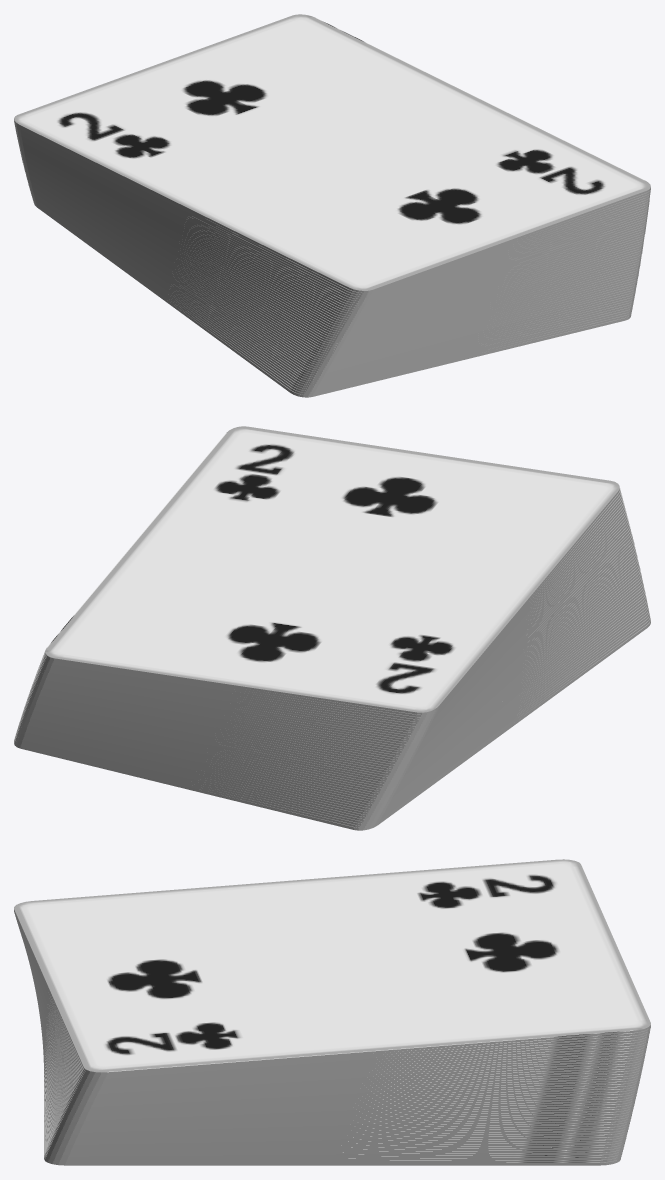
File: Deck.fbx
3 views of the same model, one above another, from view 1: azimuth 30°, elevation 25°; view 2: azimuth 150°, elevation 25°; view 3: azimuth 270°, elevation 25° (orthographic). The views are drawn at different scales.
Parts seen in each view (by area): view 1: Cube; view 2: Cube; view 3: Cube.
Boxes of the visible parts, x1,y1,x2,y2 form: Cube: (14, 14, 650, 397); Cube: (14, 426, 650, 830); Cube: (14, 859, 650, 1165).
Size of the model in its own units: 76.8 by 18.94 by 97.04.
